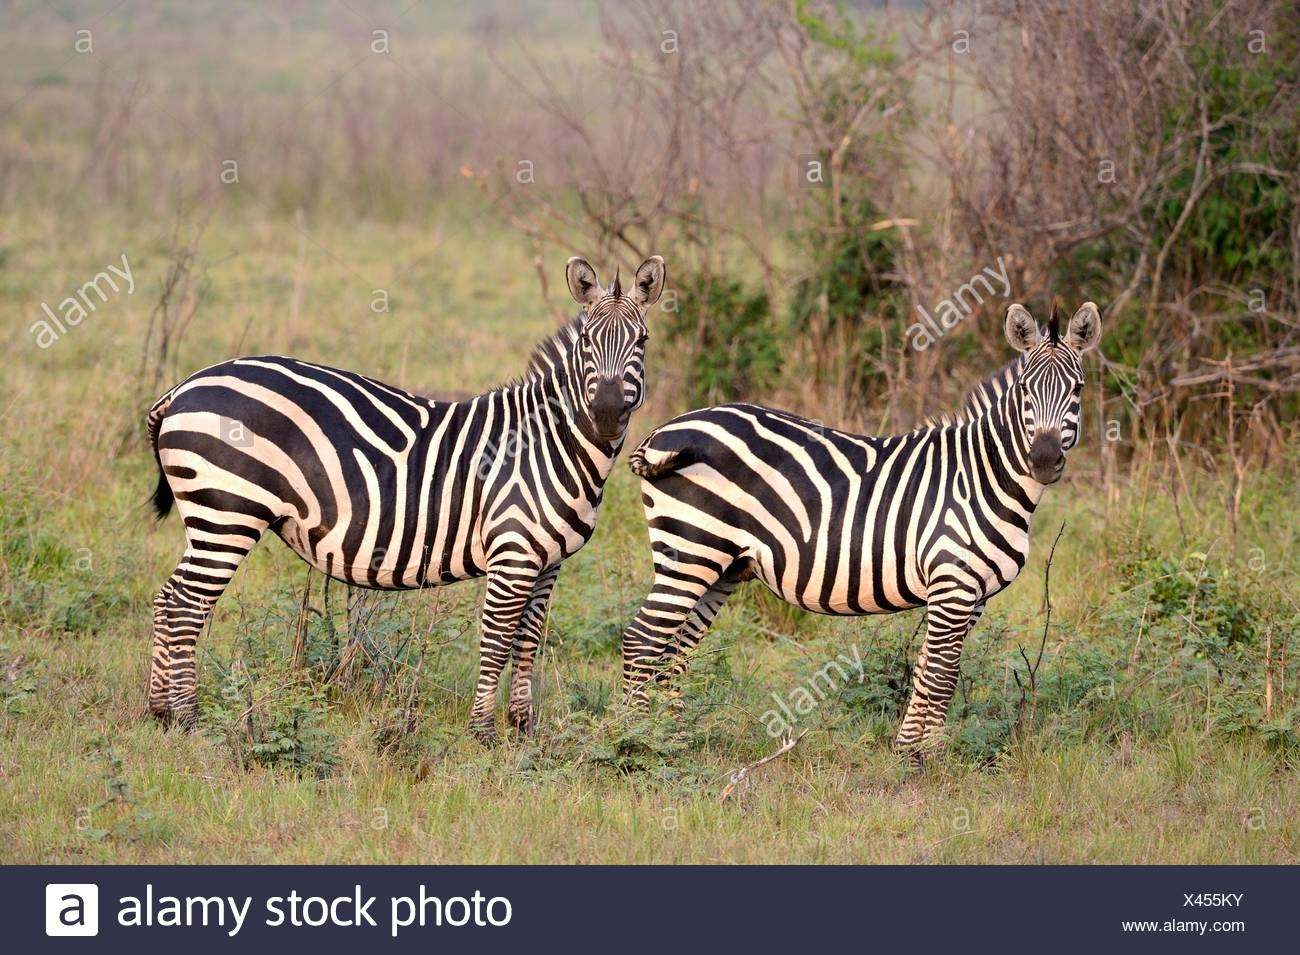zebra: (138, 245, 677, 759), (612, 287, 1113, 779)
